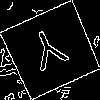Y: (25, 25, 74, 81)
